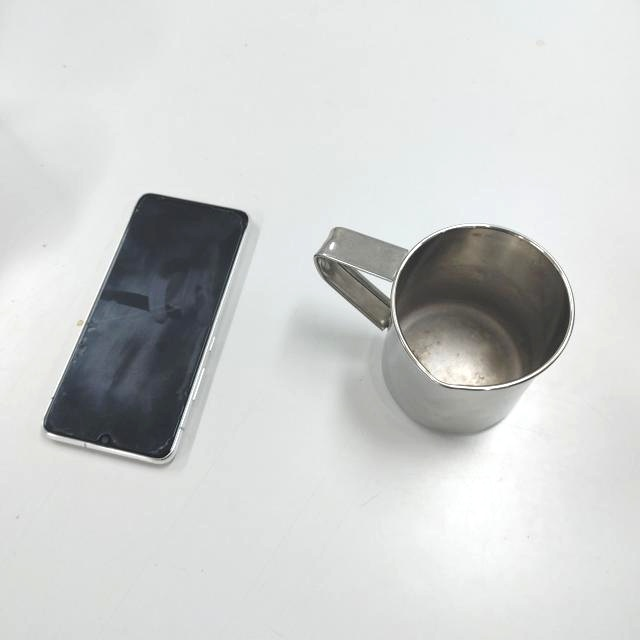cup: (313, 222, 575, 437)
phone: (40, 193, 251, 467)
